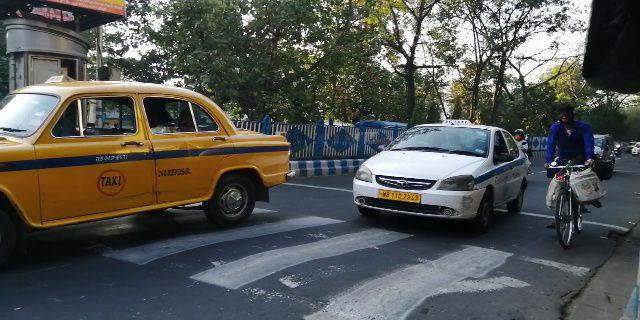Car: (1, 75, 298, 230), (348, 115, 531, 227)
Cycle: (542, 102, 606, 255)
